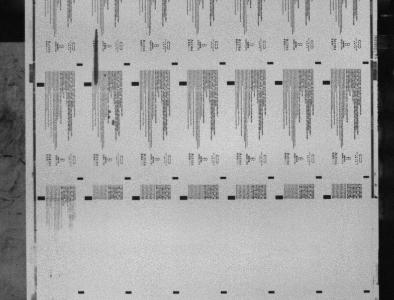qblock: (275, 80, 283, 85), (179, 81, 187, 86), (131, 81, 139, 86), (36, 82, 44, 87), (323, 80, 331, 85), (227, 81, 235, 85), (84, 82, 92, 86), (37, 196, 45, 200), (84, 196, 92, 200), (228, 196, 236, 200), (180, 196, 188, 200), (324, 195, 332, 199), (276, 195, 284, 199), (132, 196, 140, 200)
smallqblock: (78, 290, 85, 294), (173, 290, 180, 294), (269, 290, 276, 294), (221, 290, 228, 294), (76, 63, 83, 66), (267, 61, 274, 64), (124, 63, 131, 66), (315, 61, 322, 64), (172, 62, 179, 65), (125, 291, 132, 294), (77, 177, 84, 180), (316, 290, 323, 293), (316, 176, 323, 179), (268, 176, 275, 179), (124, 177, 131, 180), (364, 290, 371, 293), (172, 176, 179, 179), (220, 176, 227, 179), (220, 62, 226, 65), (363, 61, 369, 64), (364, 175, 370, 178)
